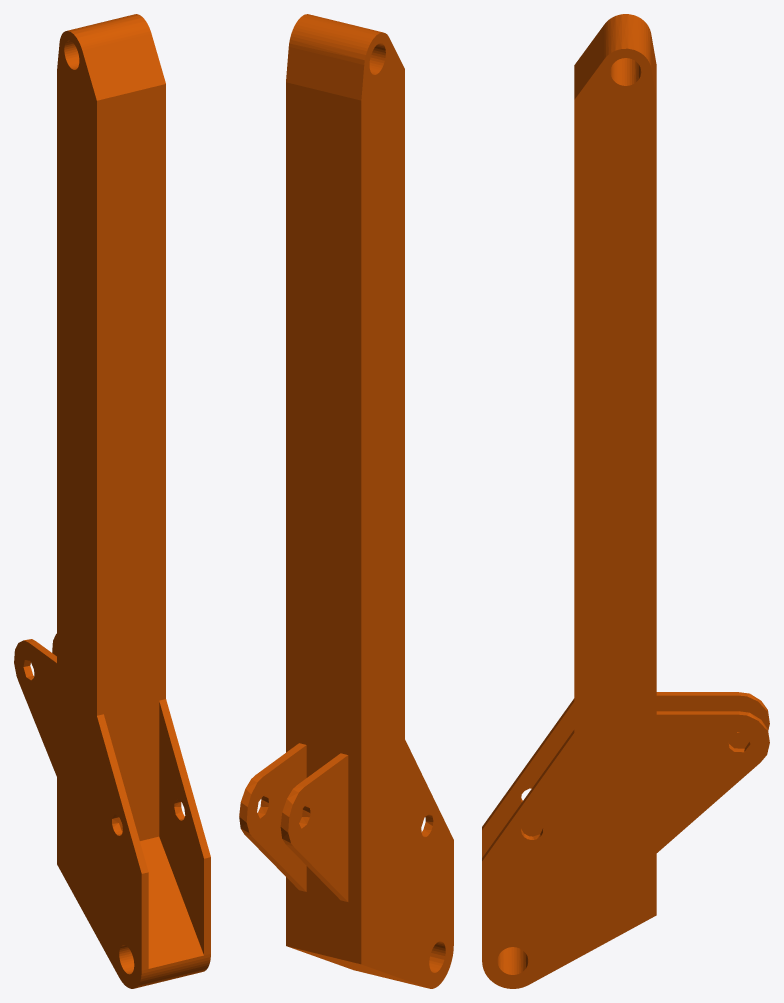
File: Nebenarm.dae
The picture shows the model from 3 angles, left to right: view 1: azimuth 30°, elevation 25°; view 2: azimuth 150°, elevation 25°; view 3: azimuth 270°, elevation 25°; orthographic projection. The views are drawn at different scales.
Visible parts, largest first — view 1: node; view 2: node; view 3: node.
Part boxes in pixels (box(x1,y1,x2,y2)): node: box(14, 14, 210, 988); node: box(239, 14, 453, 988); node: box(482, 14, 769, 988).
Size of the model in its own units: 0.08 by 0.2799 by 1.01.
